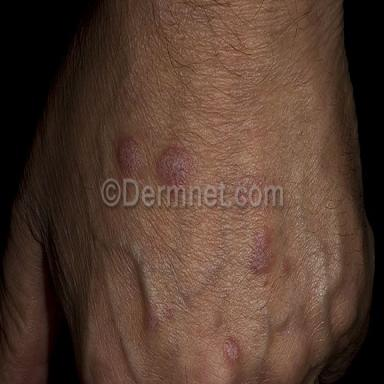lichen: (156, 146, 191, 185), (248, 227, 273, 274), (118, 135, 144, 176), (223, 336, 241, 364), (149, 313, 160, 330)
